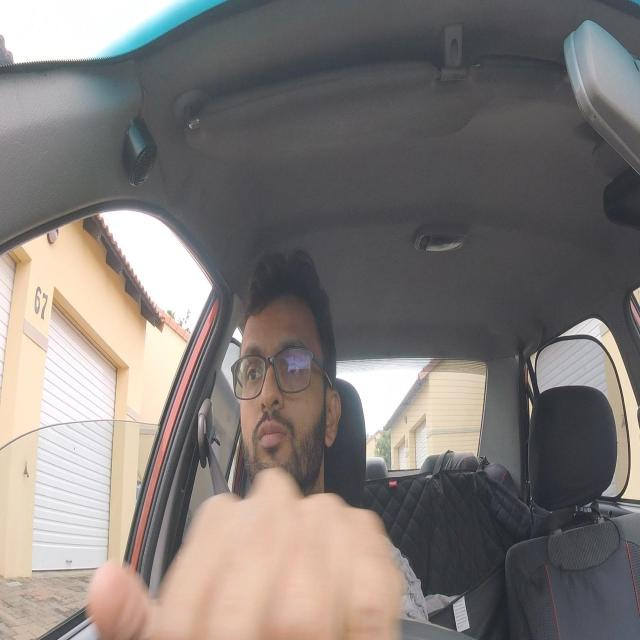open: (240, 343, 268, 399), (281, 337, 311, 389)
